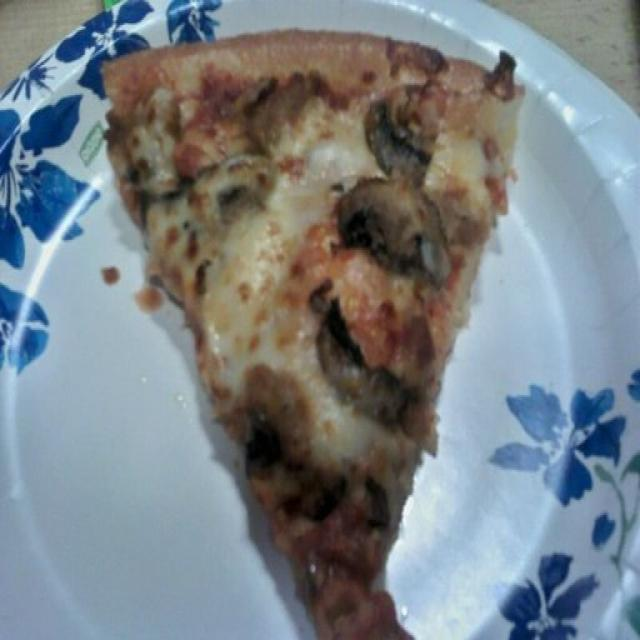Mushrooms: (132, 113, 268, 226), (315, 285, 417, 427), (345, 179, 452, 283), (373, 88, 435, 183), (235, 75, 324, 135)
Pizza: (100, 30, 529, 640)
